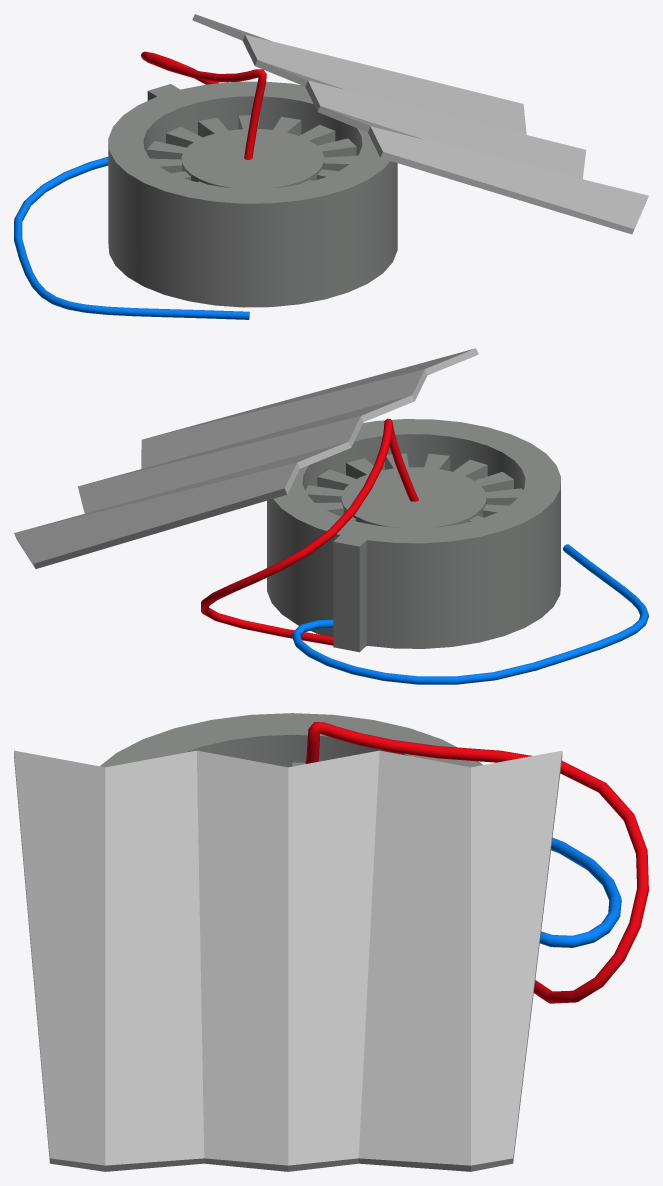
File: Scrap.fbx
3 views of the same model, one above another, from view 1: azimuth 30°, elevation 25°; view 2: azimuth 150°, elevation 25°; view 3: azimuth 270°, elevation 25° (orthographic). The views are drawn at different scales.
Parts seen in each view (by area): view 1: Plane, BezierCurve.001, BezierCurve; view 2: Plane, BezierCurve.001, BezierCurve; view 3: Plane, BezierCurve, BezierCurve.001.
Part boxes in pixels (box(x1,y1,x2,y2)): Plane: box(108, 14, 648, 307); BezierCurve.001: box(14, 157, 249, 319); BezierCurve: box(141, 51, 266, 159); Plane: box(14, 348, 560, 652); BezierCurve.001: box(291, 544, 648, 684); BezierCurve: box(201, 418, 418, 645); Plane: box(14, 713, 562, 1171); BezierCurve: box(305, 722, 648, 1003); BezierCurve.001: box(540, 838, 621, 947).
Size of the model in its own units: 148 by 43.95 by 102.
